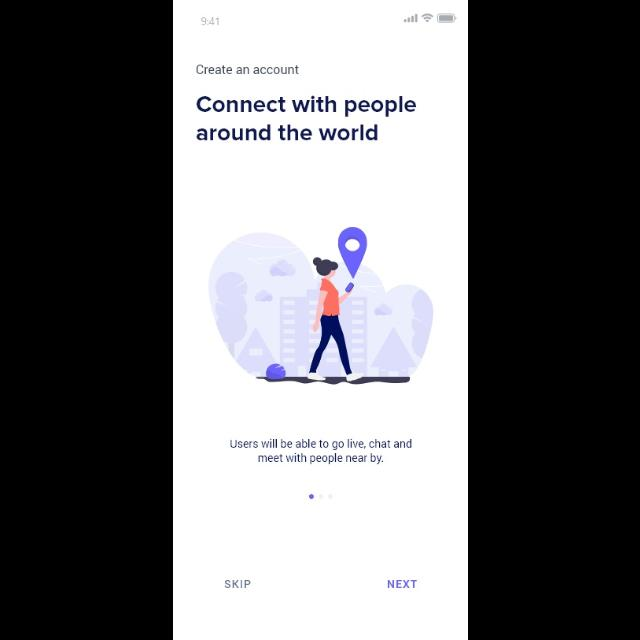image: (208, 227, 434, 385)
pageindicator: (308, 494, 334, 501)
text: (196, 96, 416, 142), (230, 439, 412, 465), (195, 64, 298, 76), (388, 580, 417, 588), (224, 580, 250, 588)
uppertaskbar: (200, 14, 456, 26)
